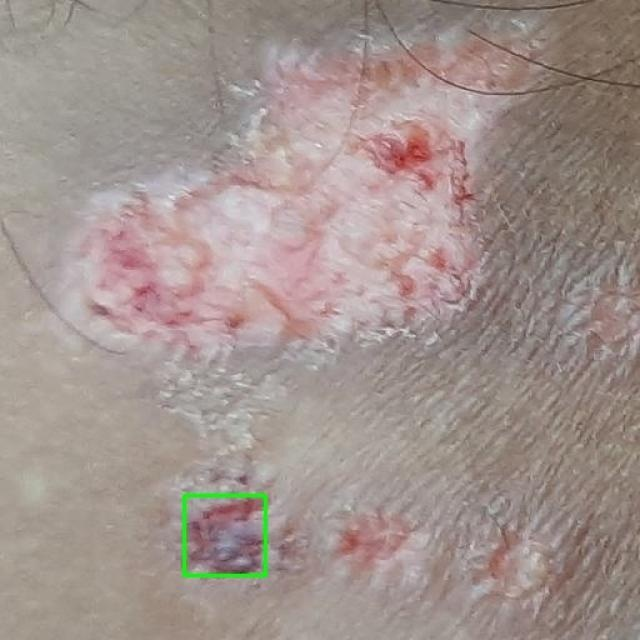Eczema: (184, 495, 265, 575)
